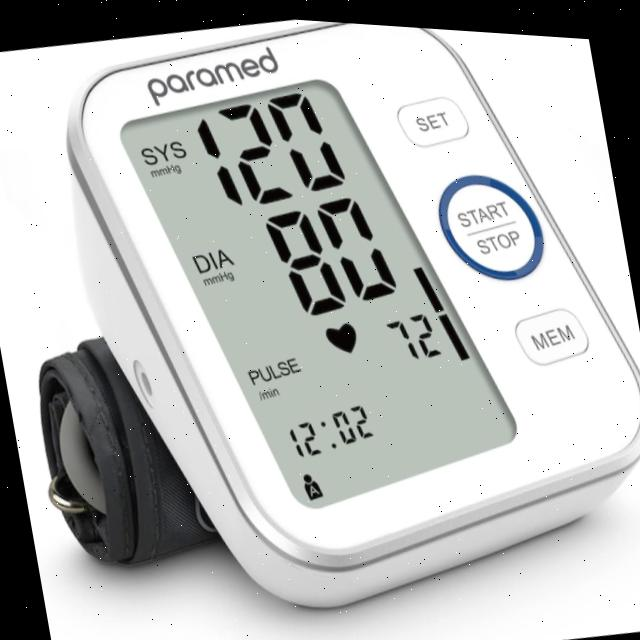dia: (255, 172, 410, 323)
pul: (379, 288, 454, 372)
ssd: (102, 24, 523, 539)
sys: (181, 68, 359, 220)
